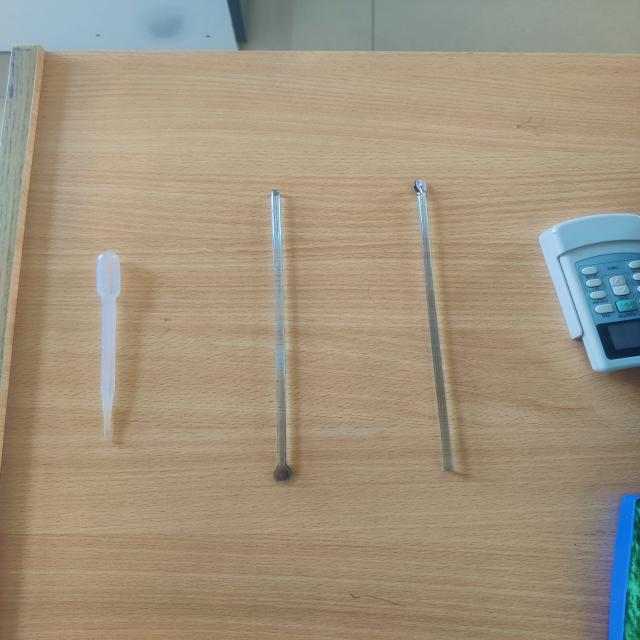Glass_Rod: (222, 165, 367, 510), (386, 172, 520, 509)
Pipette: (43, 208, 168, 462)
